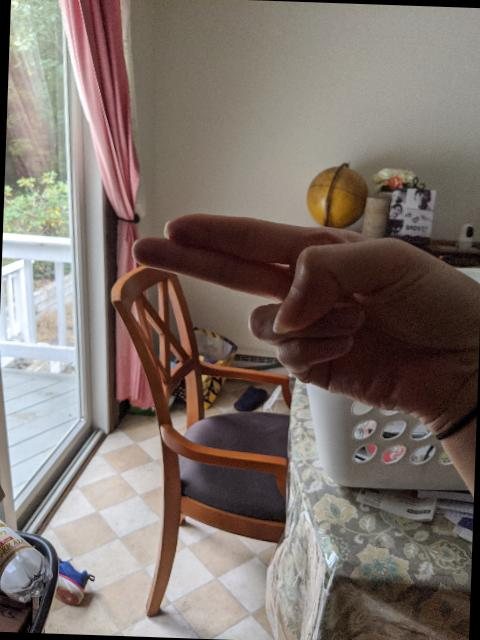H: (119, 203, 480, 423)
